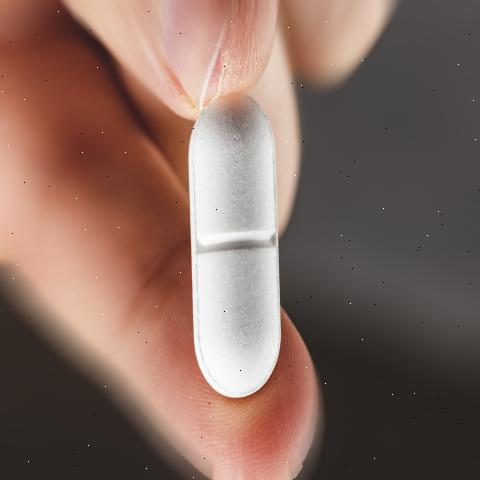Pill: (166, 100, 317, 433)
